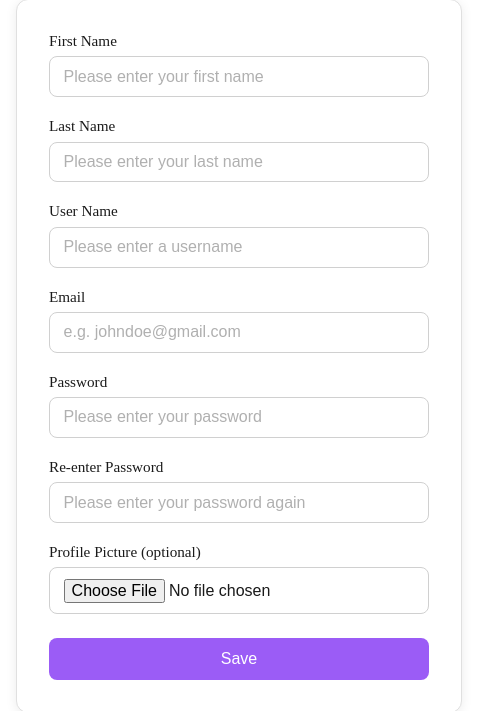
Test: SignUpForm › shows error when passwords do not match
This screenshot has width=479, height=711.
Type "Bob" into the field labelled "First Name". click: (239, 77)
box: [49,56,429,97]
Type "Bobson" into the field labelled "Last Name". click: (239, 162)
box: [49,142,429,182]
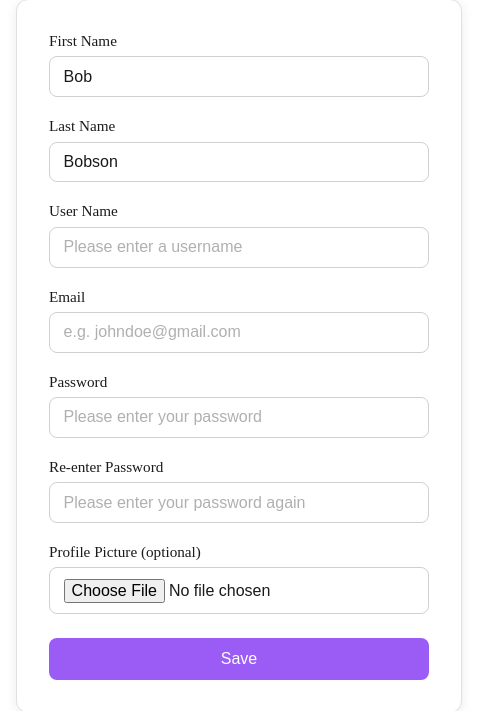
Type "BBobson" into the field labelled "User Name". click: (239, 247)
box: [49,227,429,268]
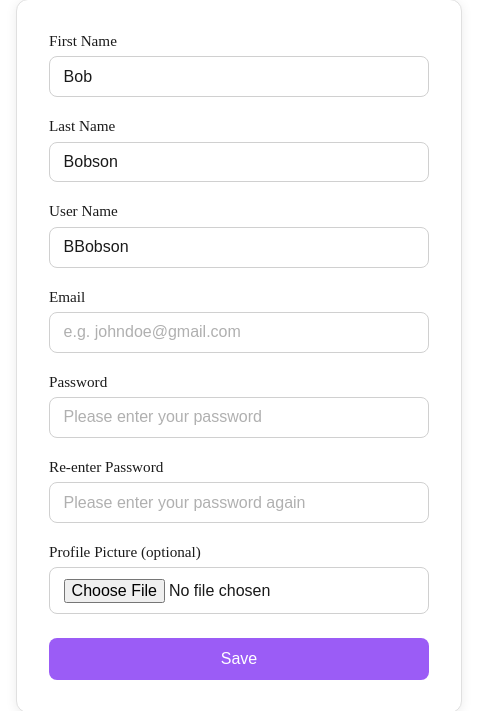
Type "bob@email.com" into the field labelled "Email". click: (239, 332)
box: [49,312,429,353]
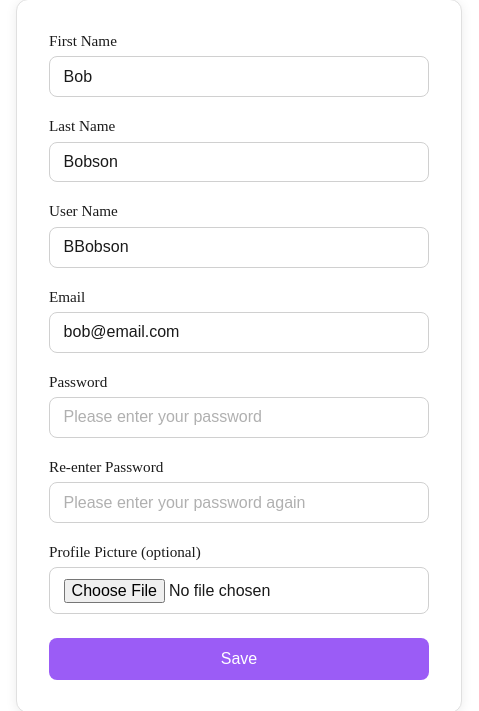
Type "Password1!" into the password field labelled "Password". click: (239, 418)
box: [49,397,429,438]
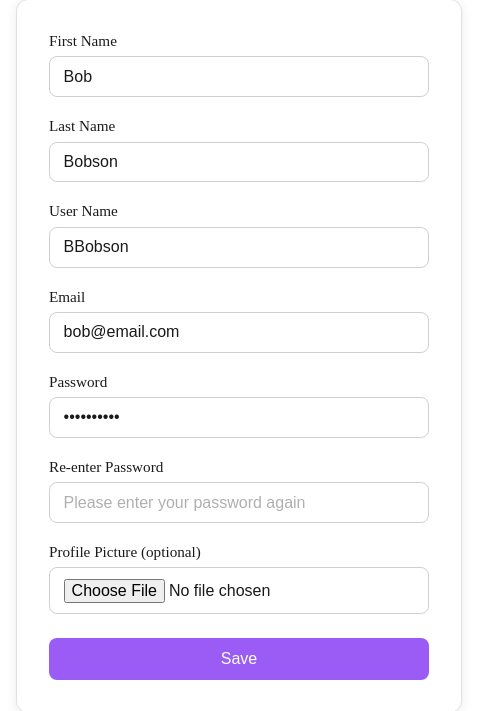
Type "Different1!" into the password field labelled "Re-enter Password". click: (239, 503)
box: [49,482,429,523]
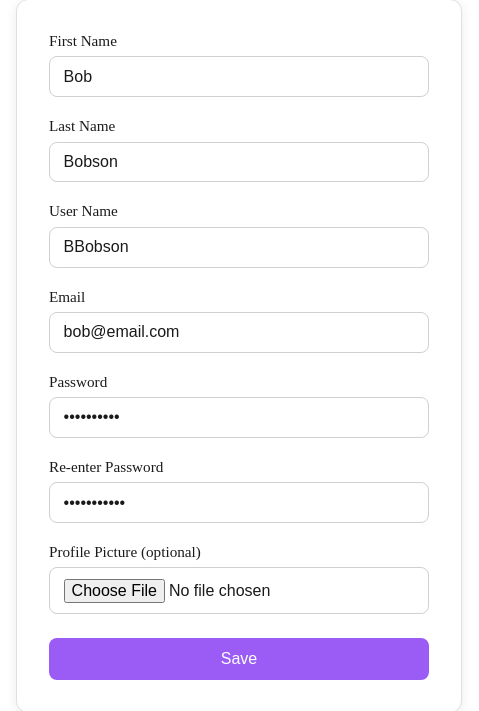
Click the button "Save". click: (239, 659)
box: [49,638,429,680]
(page scrolled)
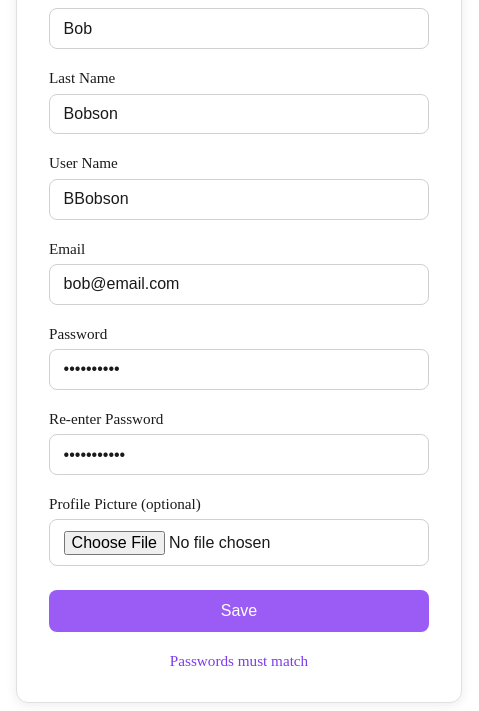
Expected: the text "Passwords must match" is shown, [170,652,308,669]
